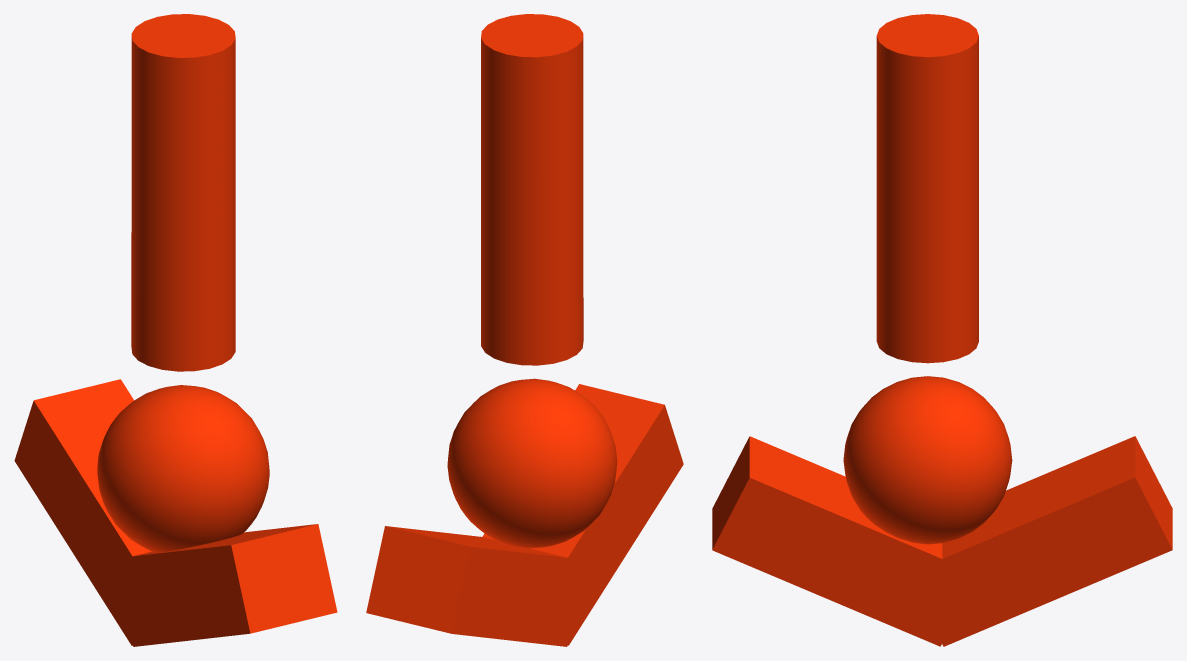
The model's file is SelectConfirmation.fbx.
3 views of the same model, side by side, from view 1: azimuth 30°, elevation 25°; view 2: azimuth 150°, elevation 25°; view 3: azimuth 270°, elevation 25° (orthographic). The views are drawn at different scales.
Parts seen in each view (by area): view 1: Cylinder, SelectConfirmation, Cube, Cube (1); view 2: Cylinder, SelectConfirmation, Cube (1), Cube; view 3: Cylinder, Cube, Cube (1), SelectConfirmation.
Boxes of the visible parts, x1=… form: Cylinder: x1=131, y1=14, x2=235, y2=371; SelectConfirmation: x1=97, y1=385, x2=269, y2=552; Cube: x1=132, y1=524, x2=337, y2=646; Cube (1): x1=14, y1=379, x2=151, y2=645; Cylinder: x1=481, y1=14, x2=583, y2=365; SelectConfirmation: x1=447, y1=378, x2=617, y2=548; Cube (1): x1=366, y1=526, x2=580, y2=646; Cube: x1=482, y1=384, x2=683, y2=645; Cylinder: x1=876, y1=14, x2=978, y2=363; Cube: x1=712, y1=436, x2=977, y2=646; Cube (1): x1=922, y1=436, x2=1172, y2=646; SelectConfirmation: x1=843, y1=376, x2=1012, y2=544.
Bounding box in the file's own units: 0.1982 × 0.765 × 0.5406.
